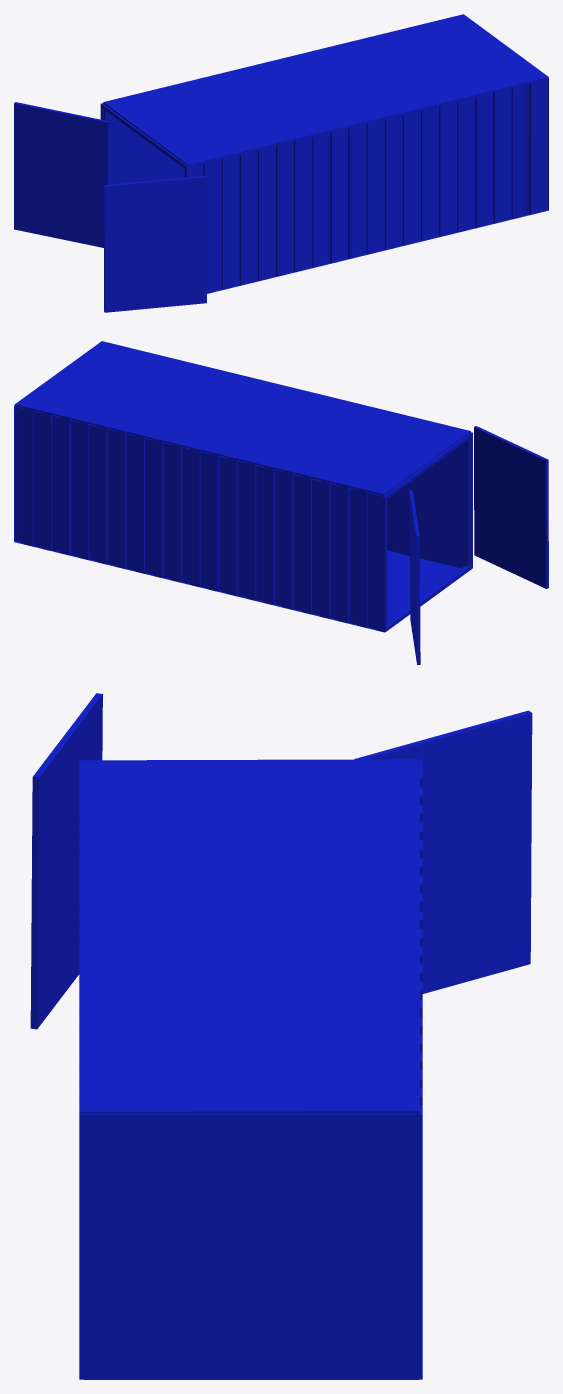
Rendered from container-blue1.FBX.
3 renders of one model, top to bottom at view 1: azimuth 30°, elevation 25°; view 2: azimuth 150°, elevation 25°; view 3: azimuth 270°, elevation 25°, orthographic. The views are drawn at different scales.
Visible parts, largest first — view 1: Box002, Box010, Box003, Box004, Box007, Box009; view 2: Box002, Box010, Box003, Box008, Plane001, Box004, Box009; view 3: Box010, Box009, Box004, Box003, Box002.
Part boxes in pixels (x1,y1,x2,y2): Box002: (100,78,548,293); Box010: (103,14,548,165); Box003: (103,175,206,312); Box004: (14,102,109,247); Box007: (103,110,184,184); Box009: (544,80,547,210); Box002: (14,406,472,632); Box010: (15,341,470,495); Box003: (474,426,548,588); Box008: (387,438,470,568); Plane001: (39,547,461,629); Box004: (409,490,420,664); Box009: (14,405,18,541); Box010: (79,759,419,1114); Box009: (83,1113,418,1379); Box004: (354,710,532,993); Box003: (30,693,102,1029); Box002: (79,761,422,1379).
Size of the model in its own units: 140 by 40.74 by 69.06.
